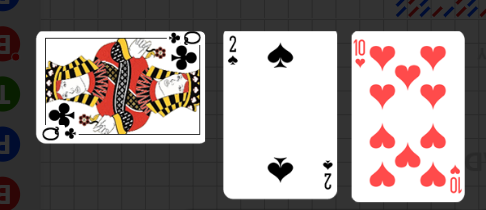10H: (448, 162, 462, 195)
2S: (226, 34, 240, 68)
9C: (40, 125, 78, 142)
